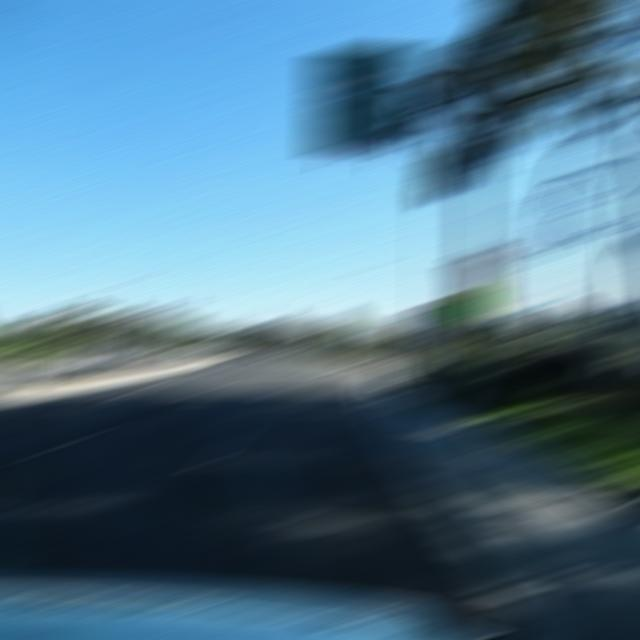pedestrianCrossing: (448, 281, 500, 324)
